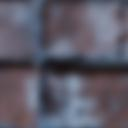brick: (43, 66, 127, 127), (0, 62, 38, 122), (0, 0, 36, 59), (5, 90, 38, 127)
broken_brick: (38, 0, 122, 55), (119, 36, 127, 60), (124, 10, 127, 25)
crack: (0, 0, 127, 126)
